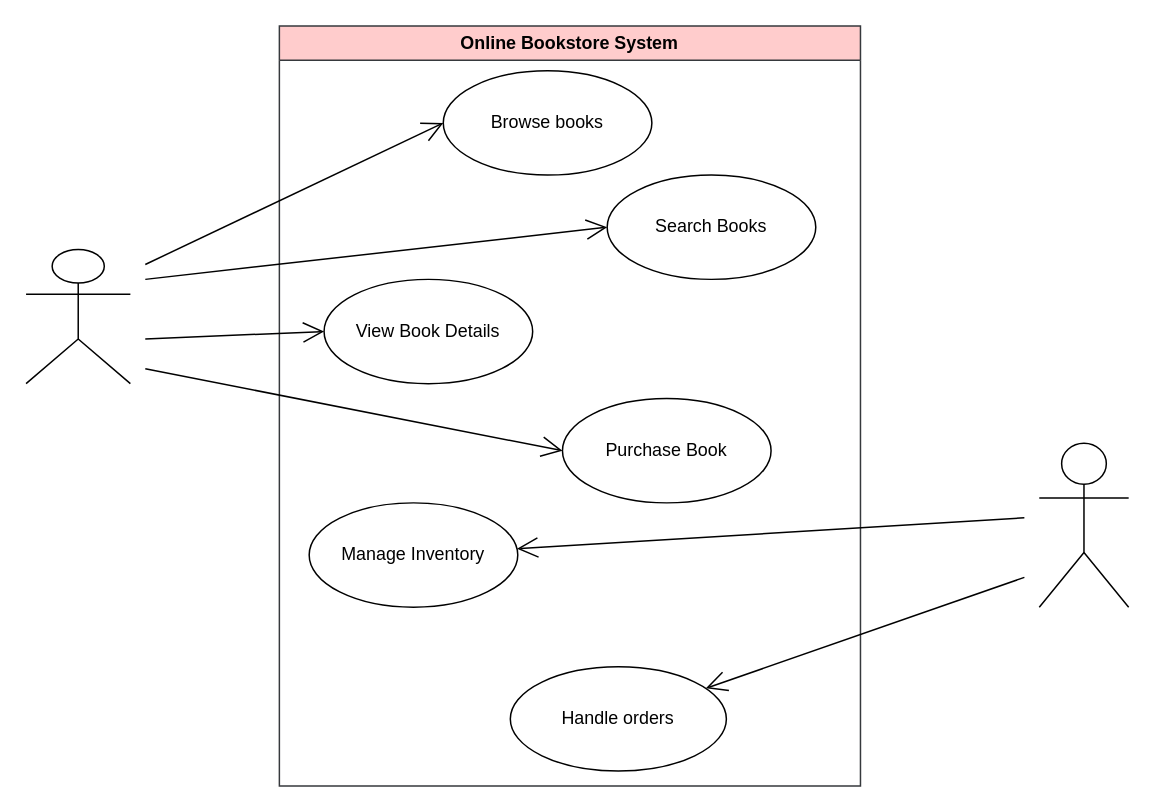
The diagram is 1155 pixels wide and 812 high, and some of its shapes have lost their labels. The centre of each missing label's shape, as x and y in pixels:
"Admin" belongs at (1083,524).
"Customer" belongs at (77,316).
